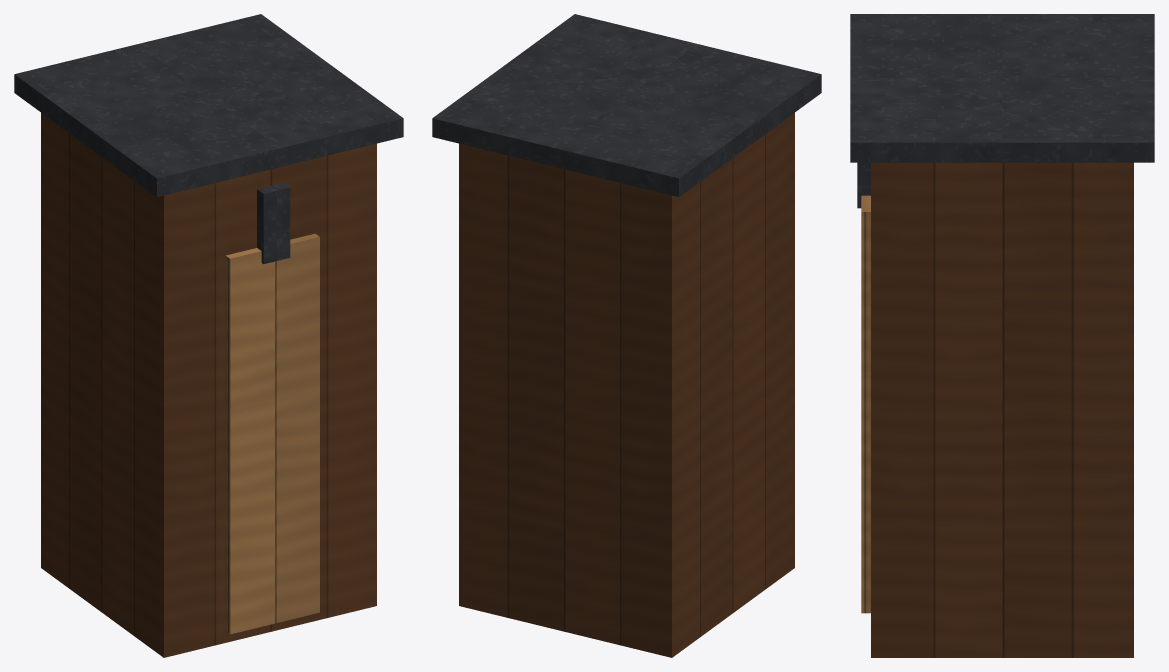
Rendered from wychodek.glb.
3 views of the same model, side by side, from view 1: azimuth 30°, elevation 25°; view 2: azimuth 150°, elevation 25°; view 3: azimuth 270°, elevation 25° (orthographic). The views are drawn at different scales.
Parts seen in each view (by area): view 1: wychodek; view 2: wychodek; view 3: wychodek.
Part boxes in pixels (box(x1,y1,x2,y2)): wychodek: box(14, 14, 403, 657); wychodek: box(432, 14, 821, 657); wychodek: box(850, 14, 1154, 657).
Bounding box in the file's own units: 1.1 × 2.09 × 1.1.
3 materials, 3 textured.
